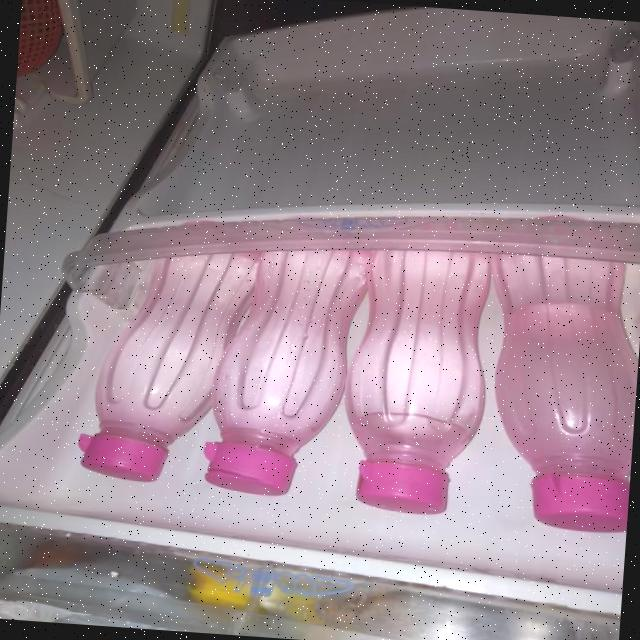bottle: (182, 216, 382, 507), (65, 212, 272, 490), (472, 212, 640, 537), (336, 217, 501, 520)
cap: (519, 463, 630, 532), (344, 454, 458, 518), (200, 437, 304, 504), (74, 434, 170, 482)
